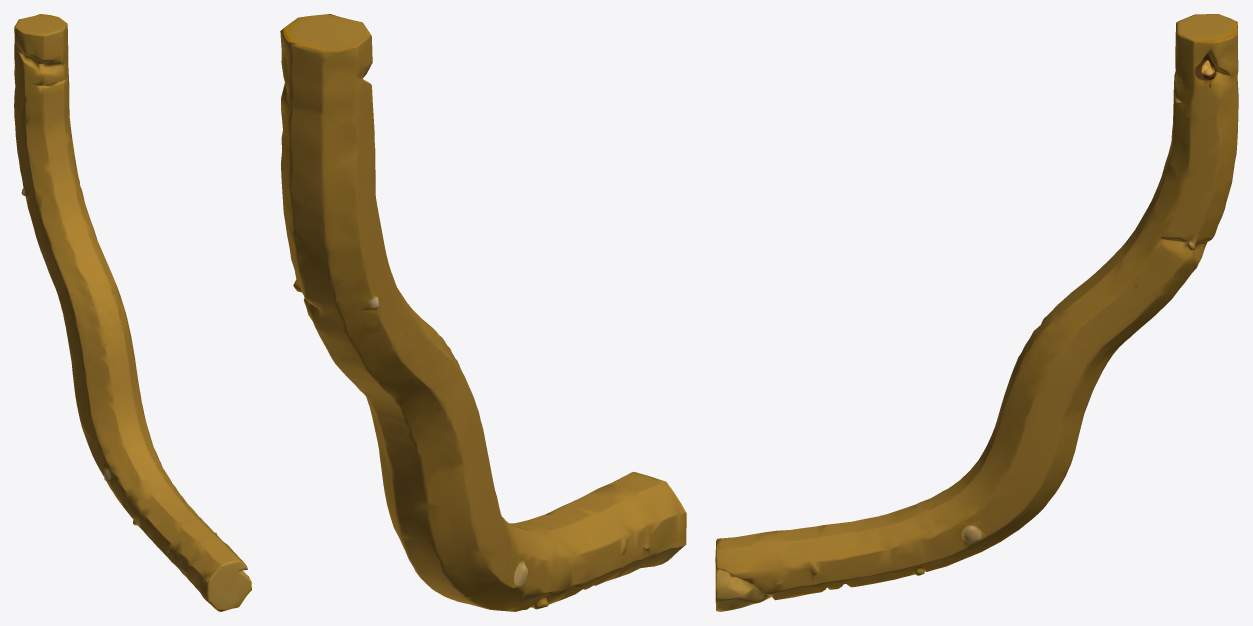
Rendered from textures.glb.
The picture shows the model from 3 angles, left to right: view 1: azimuth 30°, elevation 25°; view 2: azimuth 150°, elevation 25°; view 3: azimuth 270°, elevation 25°; orthographic projection. The views are drawn at different scales.
Parts seen in each view (by area): view 1: tripo_node_a82d29f6-6510-4f8f-acd1-7652d2de89ec; view 2: tripo_node_a82d29f6-6510-4f8f-acd1-7652d2de89ec; view 3: tripo_node_a82d29f6-6510-4f8f-acd1-7652d2de89ec.
Part boxes in pixels (x1=…): tripo_node_a82d29f6-6510-4f8f-acd1-7652d2de89ec: x1=14, y1=14, x2=251, y2=611; tripo_node_a82d29f6-6510-4f8f-acd1-7652d2de89ec: x1=280, y1=14, x2=686, y2=611; tripo_node_a82d29f6-6510-4f8f-acd1-7652d2de89ec: x1=715, y1=14, x2=1238, y2=611.
Size of the model in its own units: 0.1216 by 1 by 0.8192.
Materials: 1 (1 with a texture image).
